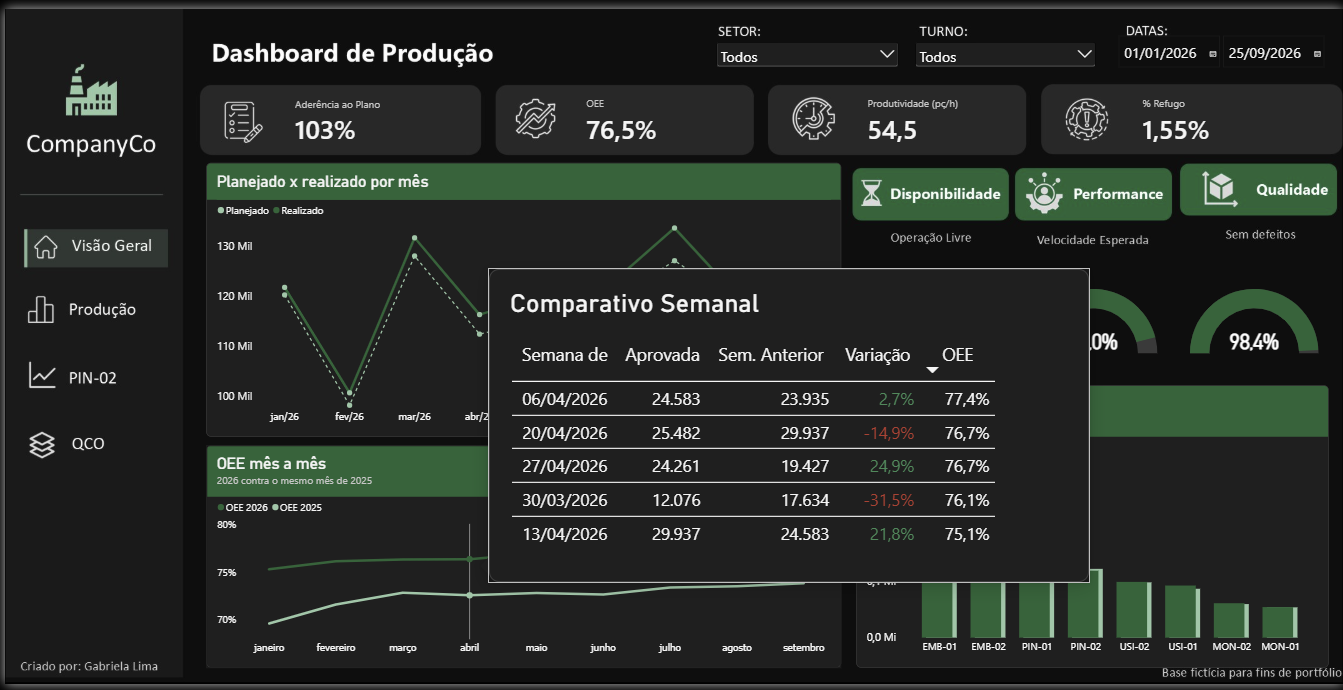

Layout of this report page (visuals, bound fields, positions):
{"tool":"powerbi","page":{"name":"Gestor","canvas":[2140,1080],"ordinal":0},"visuals":[{"type":"cardVisual","fields":{"Data":["Calendario.Aderência ao Plano"]},"box":[448.3,123.3,315,110],"z":0},{"type":"cardVisual","fields":{"Data":["Calendario.OEE"]},"box":[913.3,123.3,280,110],"z":1000},{"type":"cardVisual","fields":{"Data":["Calendario.Produtividade (pç/h)"]},"box":[1363.3,123.3,278.3,110],"z":2000},{"type":"cardVisual","fields":{"Data":["Calendario.% Refugo"]},"box":[1803.3,123.3,336.7,110],"z":3000},{"type":"lineChart","title":"Planejado x realizado por mês","fields":{"Category":["Calendario.Início do Mês"],"Y":["Calendario.Qtd Planejada","Calendario.Qtd Aprovada"]},"box":[322,246,1016,438],"z":4000},{"type":"slicer","fields":{"Values":["Turno.Turno"]},"box":[1452,48,298,50],"z":5000},{"type":"slicer","fields":{"Values":["LinhaSetor.Setor"]},"box":[1134,48,300,70],"z":6000},{"type":"gauge","fields":{"Y":["Calendario.Disponibilidade"]},"box":[1362.5,398.8,228.8,203.8],"z":7000},{"type":"gauge","fields":{"Y":["Calendario.Performance"]},"box":[1621.2,398.8,237.5,203.8],"z":8000},{"type":"gauge","fields":{"Y":["Calendario.Qualidade"]},"box":[1880,398.8,237.5,203.8],"z":9000},{"type":"slicer","fields":{"Values":["Calendario.Datas"]},"box":[1774,38,366,86],"z":10000},{"type":"lineChart","title":"OEE mês a mês","fields":{"Category":["Calendario.Nome do Mês"],"Y":["Calendario.OEE","Calendario.OEE Ano Anterior"]},"box":[322,698,1016,356],"z":11000},{"type":"clusteredColumnChart","title":"Planejado x realizado por linha","fields":{"Category":["LinhaSetor.Linha"],"Y":["Calendario.Qtd Aprovada","Calendario.Qtd Planejada"]},"box":[1362,602,756,452],"z":12000},{"type":"actionButton","box":[0,436,282,104],"z":13000},{"type":"actionButton","box":[0,540,282,104],"z":14000},{"type":"actionButton","box":[0,645,282,104],"z":14001}]}

Visuals, with their boxes on the page's 2140x1080 design canvas (x1, y1, x2, y2). These are canvas units, not pixel positions in the 1343x690 screenshot, which may show the page scaled, cropped or inside an application window:
cardVisual - Calendario.Aderência ao Plano: {"x1": 448, "y1": 123, "x2": 763, "y2": 233}
cardVisual - Calendario.OEE: {"x1": 913, "y1": 123, "x2": 1193, "y2": 233}
cardVisual - Calendario.Produtividade (pç/h): {"x1": 1363, "y1": 123, "x2": 1642, "y2": 233}
cardVisual - Calendario.% Refugo: {"x1": 1803, "y1": 123, "x2": 2140, "y2": 233}
"Planejado x realizado por mês" lineChart: {"x1": 322, "y1": 246, "x2": 1338, "y2": 684}
slicer - Turno.Turno: {"x1": 1452, "y1": 48, "x2": 1750, "y2": 98}
slicer - LinhaSetor.Setor: {"x1": 1134, "y1": 48, "x2": 1434, "y2": 118}
gauge - Calendario.Disponibilidade: {"x1": 1362, "y1": 399, "x2": 1591, "y2": 603}
gauge - Calendario.Performance: {"x1": 1621, "y1": 399, "x2": 1859, "y2": 603}
gauge - Calendario.Qualidade: {"x1": 1880, "y1": 399, "x2": 2118, "y2": 603}
slicer - Calendario.Datas: {"x1": 1774, "y1": 38, "x2": 2140, "y2": 124}
"OEE mês a mês" lineChart: {"x1": 322, "y1": 698, "x2": 1338, "y2": 1054}
"Planejado x realizado por linha" clusteredColumnChart: {"x1": 1362, "y1": 602, "x2": 2118, "y2": 1054}
actionButton: {"x1": 0, "y1": 436, "x2": 282, "y2": 540}
actionButton: {"x1": 0, "y1": 540, "x2": 282, "y2": 644}
actionButton: {"x1": 0, "y1": 645, "x2": 282, "y2": 749}
